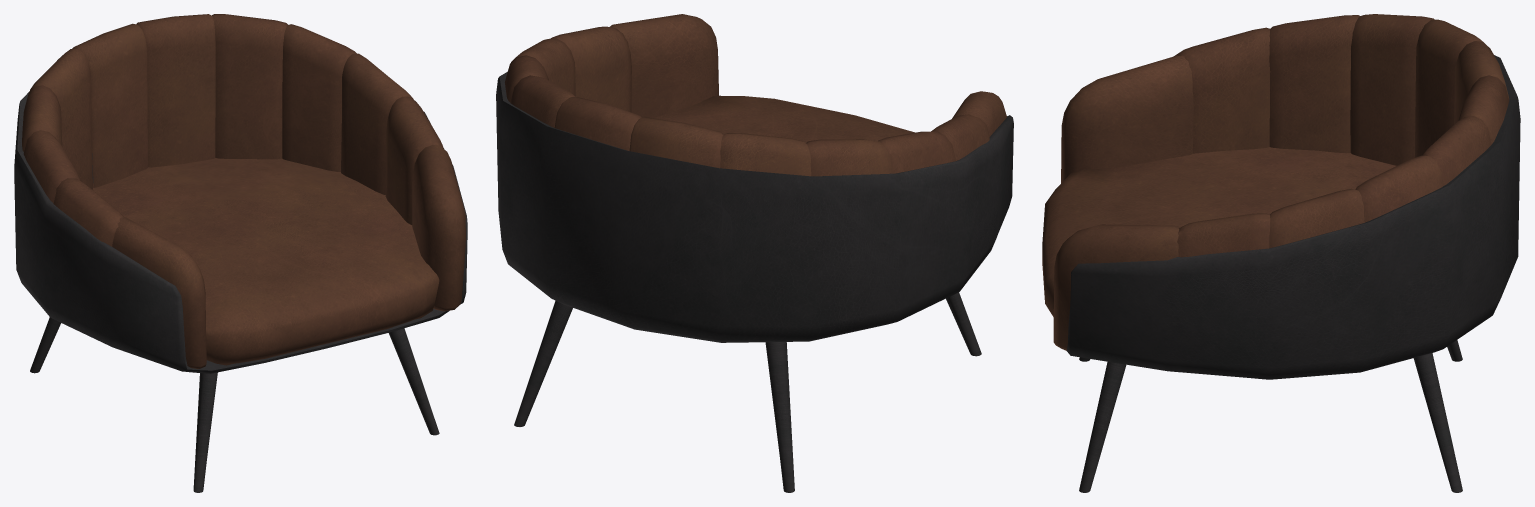
The model's file is Chair.fbx.
The picture shows the model from 3 angles, left to right: view 1: azimuth 30°, elevation 25°; view 2: azimuth 150°, elevation 25°; view 3: azimuth 270°, elevation 25°; orthographic projection. The views are drawn at different scales.
Parts seen in each view (by area): view 1: SM_Chair, SM_Chair.009, SM_Chair.004, SM_Chair.003, SM_Chair.002, SM_Chair.007, SM_Chair.006, SM_Chair.005, SM_Chair.008; view 2: SM_Chair.009, SM_Chair.002, SM_Chair, SM_Chair.004, SM_Chair.005, SM_Chair.008, SM_Chair.003, SM_Chair.006, SM_Chair.007; view 3: SM_Chair.009, SM_Chair, SM_Chair.002, SM_Chair.006, SM_Chair.007, SM_Chair.005, SM_Chair.003, SM_Chair.008, SM_Chair.004.
Part boxes in pixels (x1,y1,x2,y2): SM_Chair: (92,158,439,365); SM_Chair.009: (14,91,467,373); SM_Chair.004: (72,14,215,187); SM_Chair.003: (29,14,287,189); SM_Chair.002: (112,144,465,369); SM_Chair.007: (22,24,356,171); SM_Chair.006: (23,53,413,203); SM_Chair.005: (53,96,443,246); SM_Chair.008: (30,317,439,492); SM_Chair.009: (496,72,1013,342); SM_Chair.002: (610,14,1006,136); SM_Chair: (653,95,914,142); SM_Chair.004: (554,97,723,168); SM_Chair.005: (551,26,989,160); SM_Chair.008: (514,292,981,492); SM_Chair.003: (510,75,811,176); SM_Chair.006: (511,38,955,173); SM_Chair.007: (505,55,893,176); SM_Chair.009: (1066,55,1520,379); SM_Chair: (1042,147,1396,316); SM_Chair.002: (1053,55,1193,350); SM_Chair.006: (1269,15,1364,248); SM_Chair.007: (1350,14,1443,222); SM_Chair.005: (1174,27,1270,257); SM_Chair.003: (1415,19,1491,185); SM_Chair.008: (1079,340,1462,492); SM_Chair.004: (1454,41,1509,143).
Bounding box in the file's own units: 0.9828 × 0.7585 × 0.9358.
Materials: 2 (2 with a texture image).
